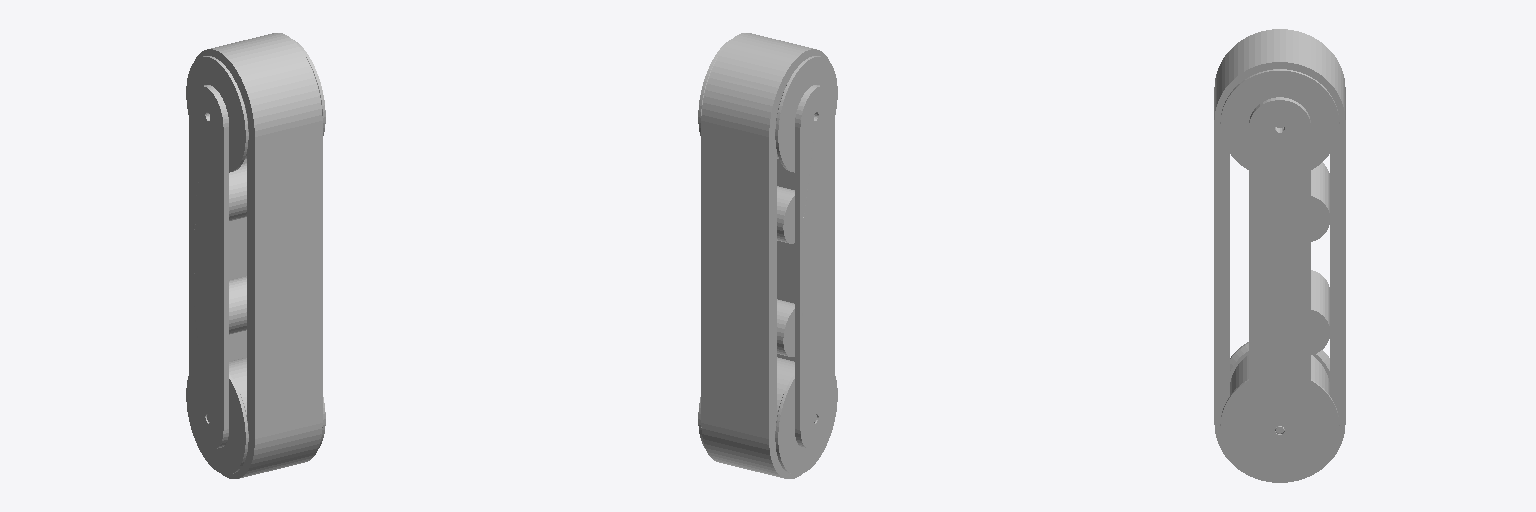
Rendered from brazo_der_frontal_v2.obj.
The picture shows the model from 3 angles: view 1: azimuth 30°, elevation 25°; view 2: azimuth 150°, elevation 25°; view 3: azimuth 270°, elevation 25°; orthographic projection.
Visible parts, largest first — view 1: Object.1; view 2: Object.1; view 3: Object.1.
Boxes of the visible parts, box(x1,y1,x2,y2) form: Object.1: box(186, 33, 325, 478); Object.1: box(698, 33, 837, 478); Object.1: box(1214, 29, 1345, 482).
Size of the model in its own units: 107 by 446 by 126.